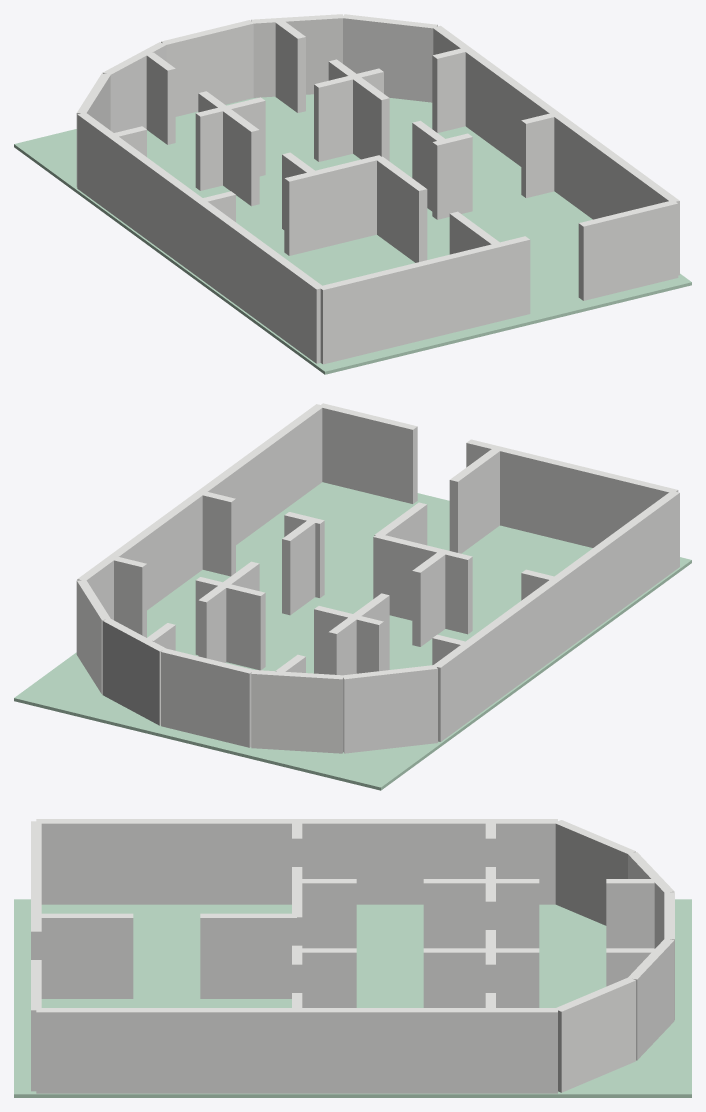
File: ussr_mansion_map.glb
3 views of the same model, one above another, from view 1: azimuth 30°, elevation 25°; view 2: azimuth 150°, elevation 25°; view 3: azimuth 270°, elevation 25° (orthographic). The views are drawn at different scales.
Visible parts, largest first — view 1: Floor, Outer_S_L, Outer_SW, Outer_NW, Outer_S_R, Outer_SSE, Outer_NTM, Outer_NER, Outer_SE, H_Mid_C_A, Outer_NTR, V_Bot_B (+17 smaller); view 2: Floor, Outer_S_L, Outer_NW, Outer_SW, Outer_SSE, Outer_S_R, Outer_NWL, Outer_NTL, Outer_NTM, Outer_SE, Outer_NTR, V_Bot_A (+17 smaller); view 3: Floor, Outer_SE, Outer_SSE, Outer_SW, Outer_NW, V_Bot_B, V_Bot_A, Outer_NER, Outer_NWL, V_Mid_L_B, V_Mid_L_A, V_Mid_R_B (+16 smaller).
Boxes of the visible parts, left/top/right/bottom form: Floor: left=14, top=94, right=691, bottom=374; Outer_S_L: left=319, top=236, right=530, bottom=364; Outer_SW: left=197, top=200, right=324, bottom=363; Outer_NW: left=77, top=112, right=204, bottom=275; Outer_S_R: left=578, top=200, right=678, bottom=300; Outer_SSE: left=554, top=113, right=679, bottom=275; Outer_NTM: left=161, top=20, right=254, bottom=116; Outer_NER: left=343, top=14, right=437, bottom=102; Outer_SE: left=433, top=25, right=559, bottom=166; H_Mid_C_A: left=311, top=155, right=381, bottom=249; Outer_NTR: left=251, top=14, right=343, bottom=97; V_Bot_B: left=376, top=156, right=427, bottom=262; Floor: left=14, top=482, right=691, bottom=790; Outer_S_L: left=466, top=439, right=678, bottom=547; Outer_NW: left=433, top=578, right=560, bottom=741; Outer_SW: left=553, top=490, right=679, bottom=654; Outer_SSE: left=197, top=404, right=324, bottom=544; Outer_S_R: left=321, top=403, right=417, bottom=503; Outer_NWL: left=342, top=665, right=437, bottom=753; Outer_NTL: left=251, top=670, right=343, bottom=753; Outer_NTM: left=161, top=648, right=253, bottom=747; Outer_SE: left=77, top=491, right=202, bottom=619; Outer_NTR: left=102, top=619, right=166, bottom=725; V_Bot_A: left=449, top=448, right=499, bottom=553; Floor: left=14, top=899, right=691, bottom=1097; Outer_SE: left=297, top=1008, right=557, bottom=1093; Outer_SSE: left=36, top=1008, right=296, bottom=1093; Outer_SW: left=36, top=819, right=296, bottom=904; Outer_NW: left=297, top=819, right=557, bottom=904; V_Bot_B: left=200, top=913, right=296, bottom=998; V_Bot_A: left=36, top=913, right=133, bottom=998; Outer_NER: left=554, top=977, right=635, bottom=1092; Outer_NWL: left=555, top=820, right=635, bottom=925; V_Mid_L_B: left=423, top=879, right=490, bottom=948; V_Mid_L_A: left=302, top=879, right=356, bottom=948; V_Mid_R_B: left=423, top=948, right=490, bottom=1007.
Size of the model in its own units: 12.4 by 2.5 by 18.2.
